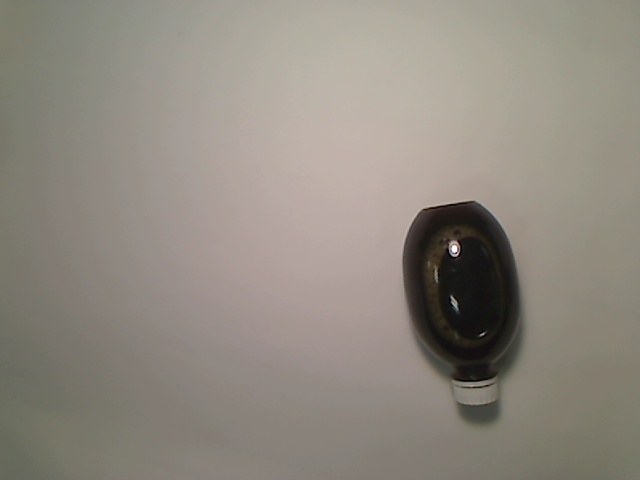plast_bottle: (398, 199, 522, 410)
